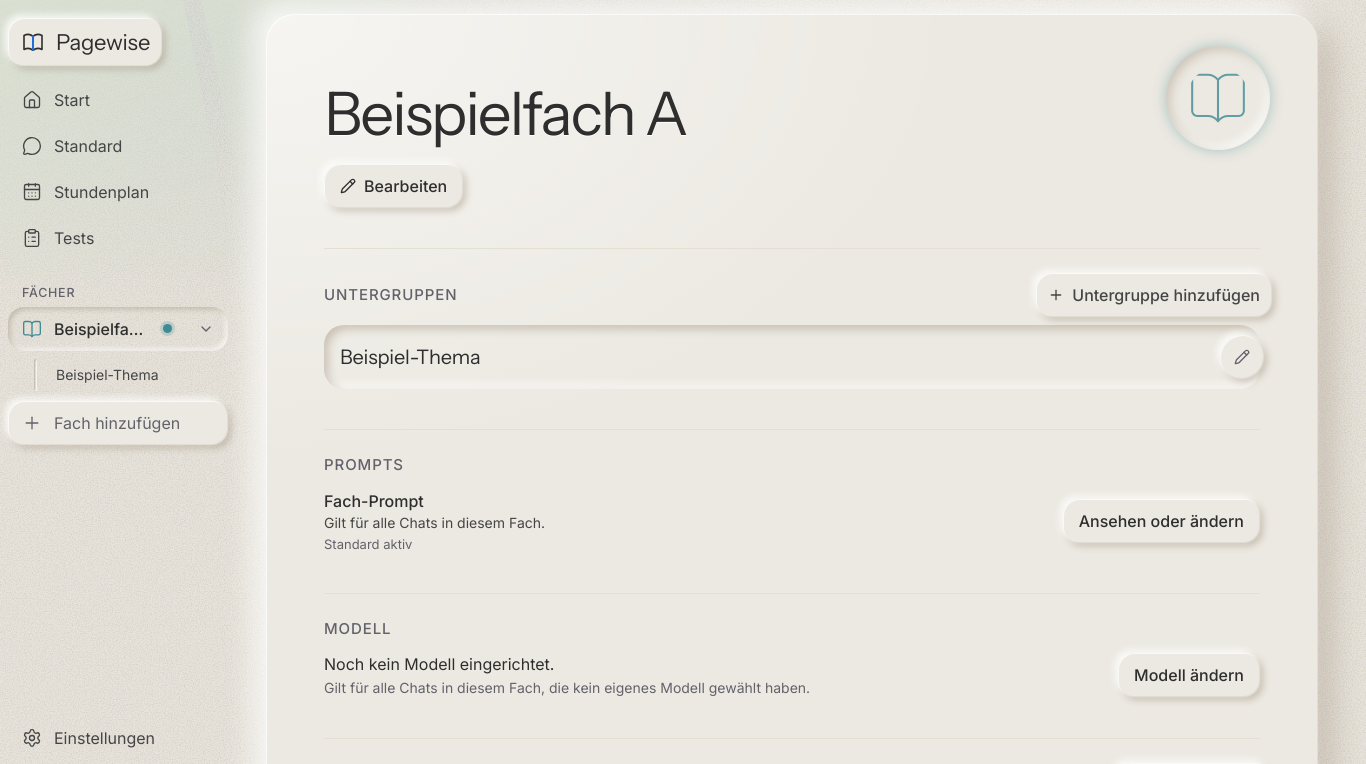
Test: Untergruppen › benennt eine Untergruppe um
Click the button named "Untergruppe „Beispiel-Thema“ bearbeiten".
click(1242, 357)  # box [1220,335,1264,379]
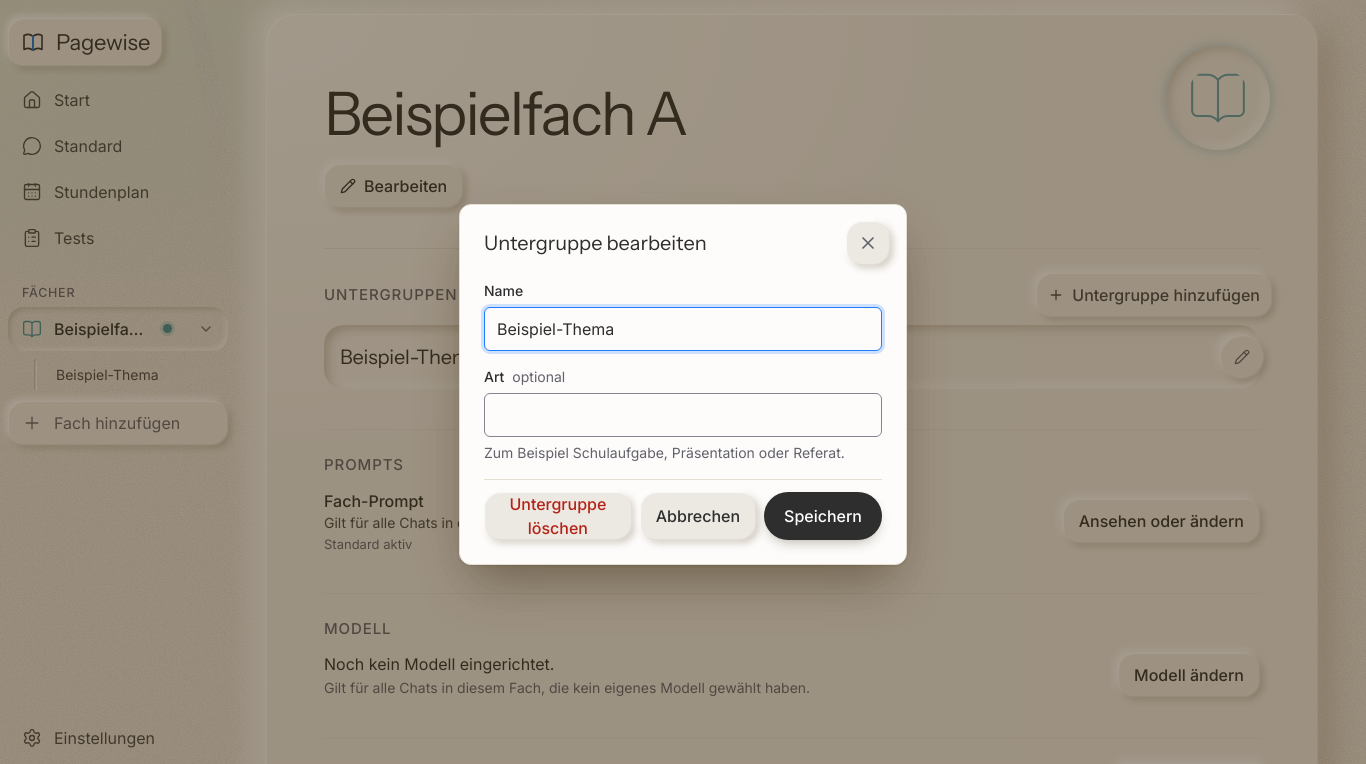
Replace the text in the field labelled "Name" with "Anderes Thema" at (683, 328), box [484,306,882,350]
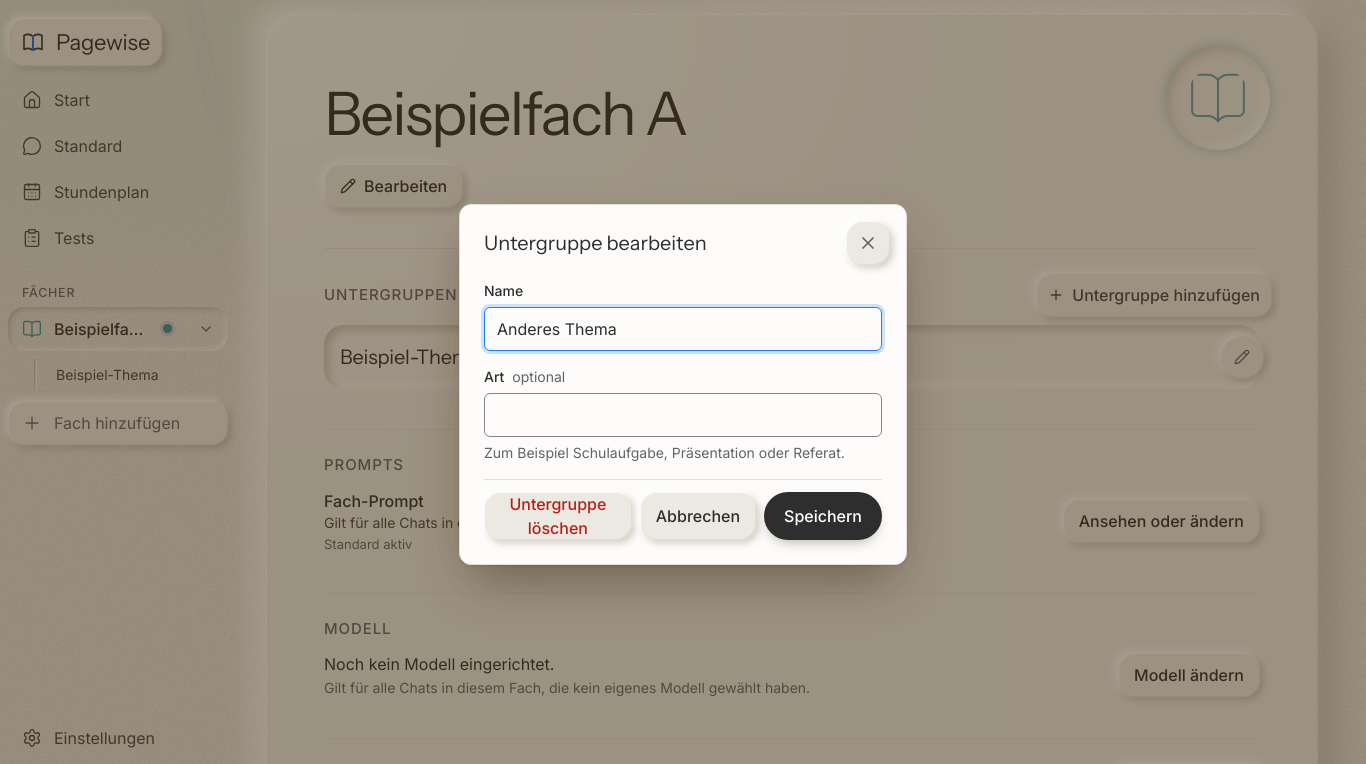
Click the button "Speichern".
click(823, 516)  # box [764,492,882,540]
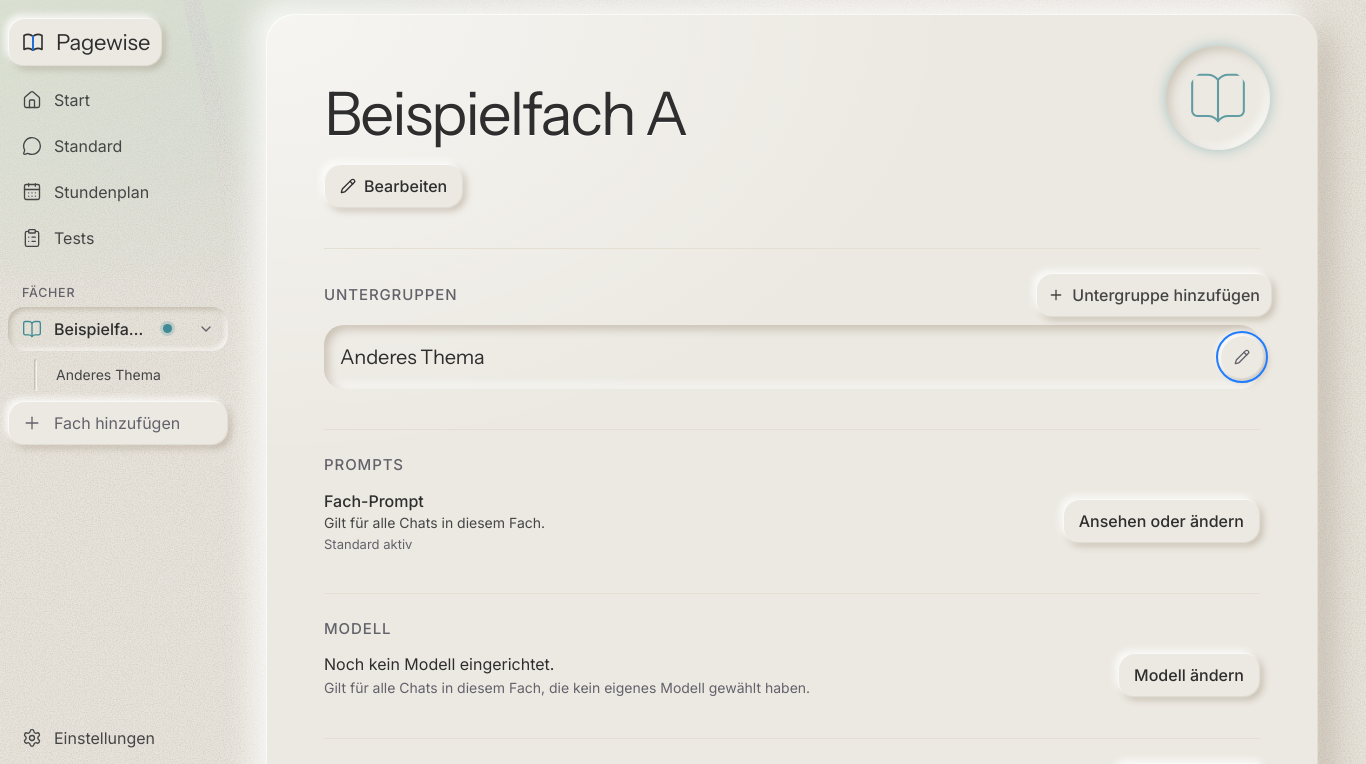
expect the dialog is gone: met
expect the link "Anderes Thema" below "Untergruppen" is shown: met, box [328,329,1220,385]
